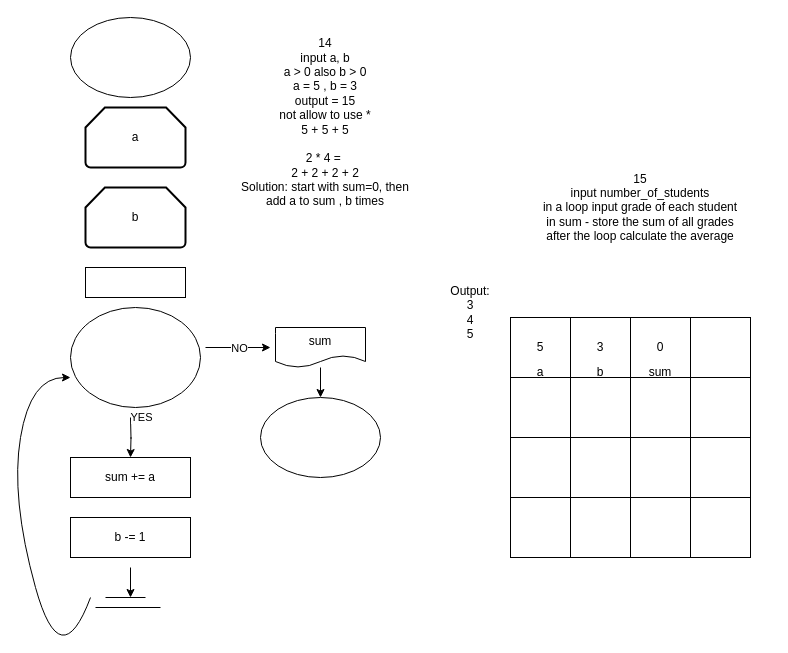
This 788x653 diagram has some shape labels left out. The box of each missing label's shape, as (x1, y1, x2, y2) in pixels:
a > 0 and b >0: (70, 306, 200, 408)
END: (260, 396, 380, 478)
START: (70, 16, 190, 98)
sum = 0: (84, 266, 186, 298)
